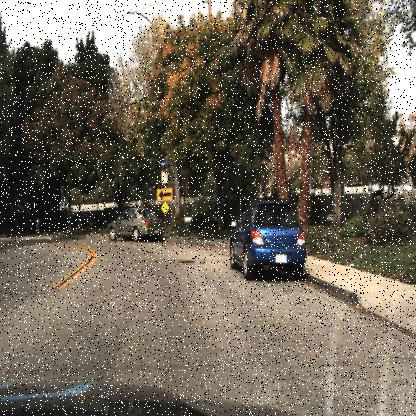car: (226, 190, 311, 280), (105, 203, 166, 243)
